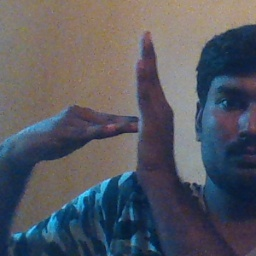Z: (77, 26, 176, 189)
